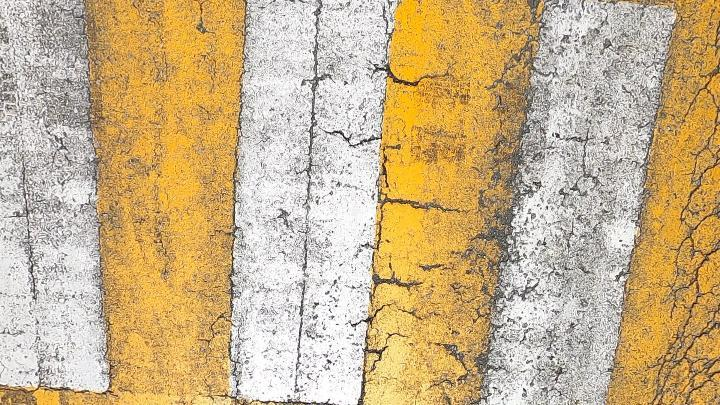Lane: (0, 0, 720, 405), (1, 0, 719, 404)
